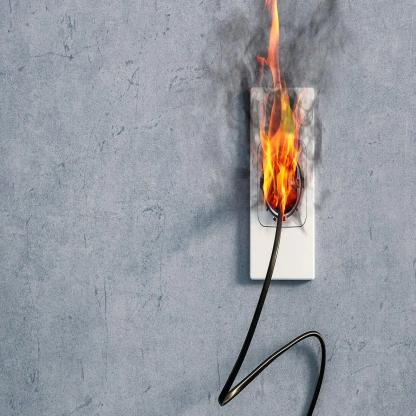fire: (253, 0, 303, 209)
smoke: (283, 3, 352, 167), (208, 3, 263, 208)
